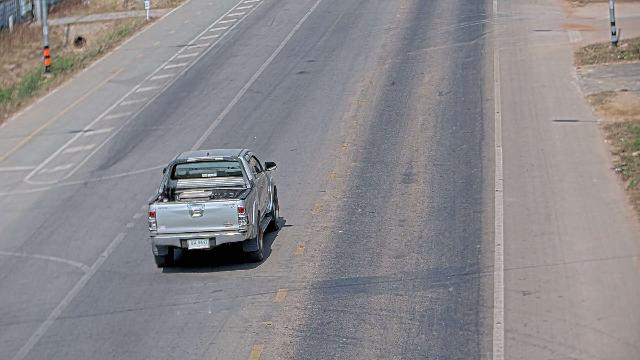pickup-truck: (147, 147, 280, 267)
